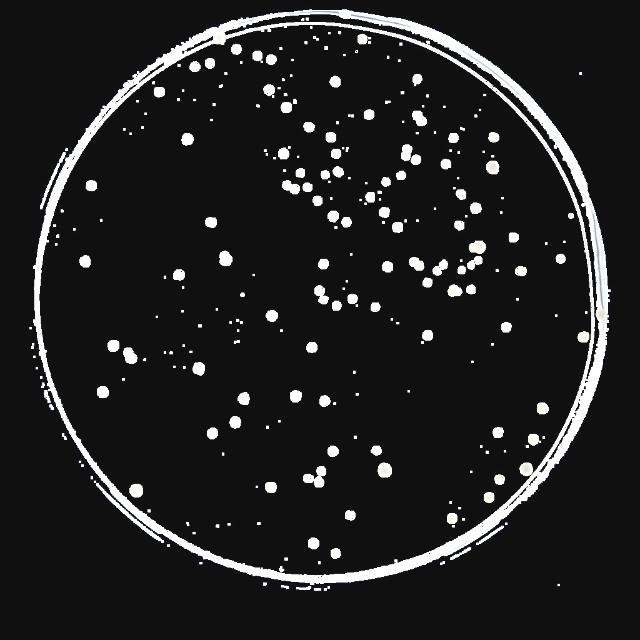colony: (186, 361, 208, 379), (484, 158, 501, 178), (490, 470, 508, 488), (516, 460, 534, 478), (122, 353, 142, 369), (380, 258, 396, 278), (235, 390, 252, 408), (219, 249, 235, 267), (122, 343, 140, 359), (376, 462, 394, 478), (446, 283, 464, 299), (288, 388, 304, 406), (474, 240, 491, 256), (180, 132, 196, 148), (328, 74, 344, 90), (354, 32, 370, 48), (262, 82, 276, 100), (534, 402, 552, 416), (84, 178, 98, 194), (78, 253, 92, 269), (95, 386, 111, 400), (128, 483, 144, 497), (264, 480, 278, 496), (344, 507, 358, 523), (577, 328, 591, 344), (469, 200, 483, 216), (311, 192, 325, 208), (330, 165, 346, 179), (512, 266, 530, 278), (397, 141, 415, 153), (105, 338, 118, 354), (207, 426, 220, 442), (486, 131, 499, 147), (188, 61, 202, 75), (212, 33, 226, 47), (229, 43, 243, 57), (228, 416, 242, 430), (306, 537, 320, 551), (326, 444, 340, 458), (482, 490, 496, 504), (440, 158, 454, 172), (318, 394, 332, 408), (378, 174, 392, 188), (394, 168, 408, 182), (362, 108, 376, 122), (324, 130, 338, 144), (303, 120, 317, 134), (266, 52, 278, 68), (203, 216, 219, 228), (369, 444, 385, 456), (447, 129, 459, 145), (390, 222, 406, 234), (278, 146, 290, 162), (172, 268, 185, 282), (501, 320, 514, 334), (316, 256, 329, 270), (251, 49, 263, 63), (280, 100, 292, 114), (315, 464, 329, 476), (526, 434, 540, 446), (508, 232, 522, 244), (422, 328, 434, 342), (331, 298, 343, 312), (312, 284, 326, 296), (305, 342, 319, 354), (265, 310, 279, 322), (294, 168, 308, 180), (377, 207, 391, 219), (398, 150, 412, 162), (410, 154, 424, 166), (330, 147, 342, 161), (202, 58, 215, 70), (492, 426, 504, 439), (436, 258, 449, 270), (326, 210, 339, 222), (364, 190, 376, 203), (416, 116, 429, 128), (410, 74, 424, 85), (331, 547, 343, 559), (314, 477, 326, 489), (456, 189, 468, 201), (454, 220, 466, 232), (466, 260, 478, 272), (414, 260, 426, 272), (369, 302, 381, 314), (318, 294, 330, 306), (302, 182, 314, 194), (446, 512, 460, 522), (454, 266, 468, 276), (154, 88, 166, 99), (555, 253, 567, 264), (408, 108, 419, 119), (304, 473, 314, 485), (346, 294, 358, 304), (341, 216, 351, 228), (290, 184, 300, 196), (282, 180, 292, 192), (319, 170, 331, 180), (407, 256, 418, 266), (474, 256, 484, 266), (466, 284, 476, 294), (422, 278, 432, 288), (432, 266, 442, 276), (567, 212, 575, 222), (469, 243, 477, 253)
